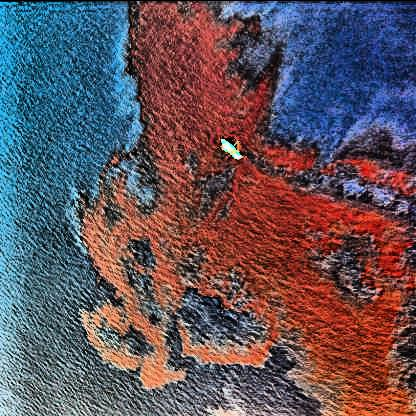truecolor: (82, 2, 416, 416)
